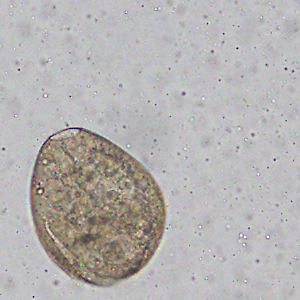Fasciola_hepatica_egg: (29, 126, 167, 288)
